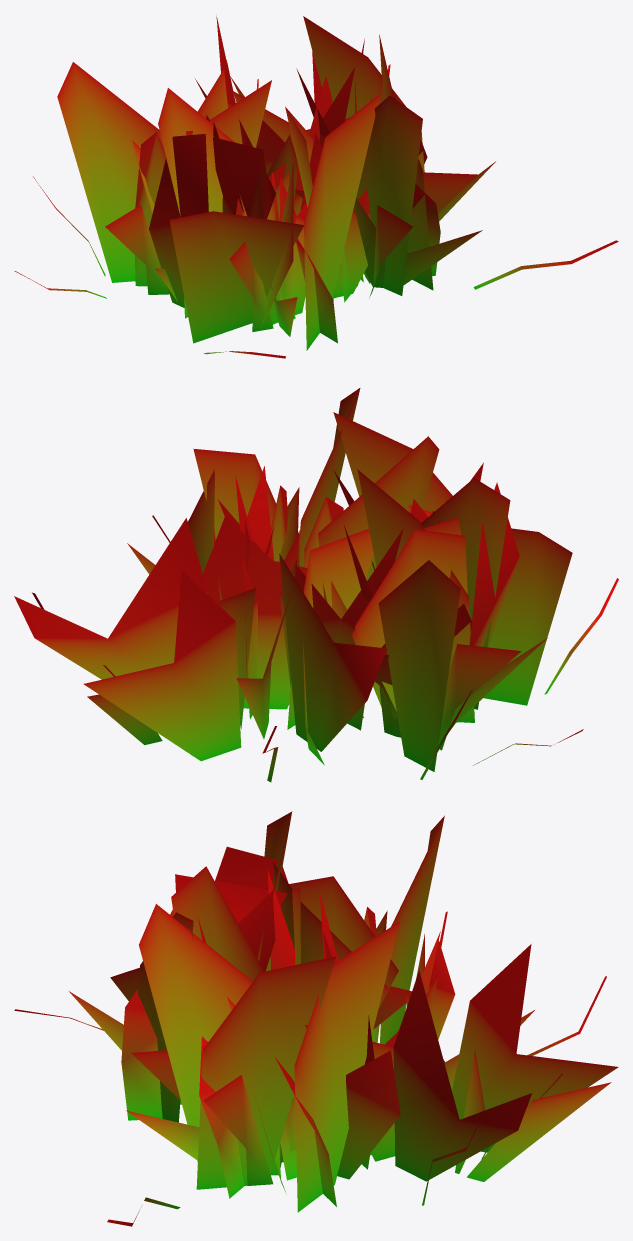
Rendered from Tundra Grass_LOD6_Var30_wk2oaeyqx.fbx.
The picture shows the model from 3 angles, top to bottom: view 1: azimuth 30°, elevation 25°; view 2: azimuth 150°, elevation 25°; view 3: azimuth 270°, elevation 25°; orthographic projection. The views are drawn at different scales.
Visible parts, largest first — view 1: _eskd_Var30_LOD6; view 2: _eskd_Var30_LOD6; view 3: _eskd_Var30_LOD6.
Boxes of the visible parts, <box> form: _eskd_Var30_LOD6: <box>14,16,618,358</box>; _eskd_Var30_LOD6: <box>14,388,618,782</box>; _eskd_Var30_LOD6: <box>14,811,618,1226</box>.
Size of the model in its own units: 43.54 by 19.17 by 40.9.
